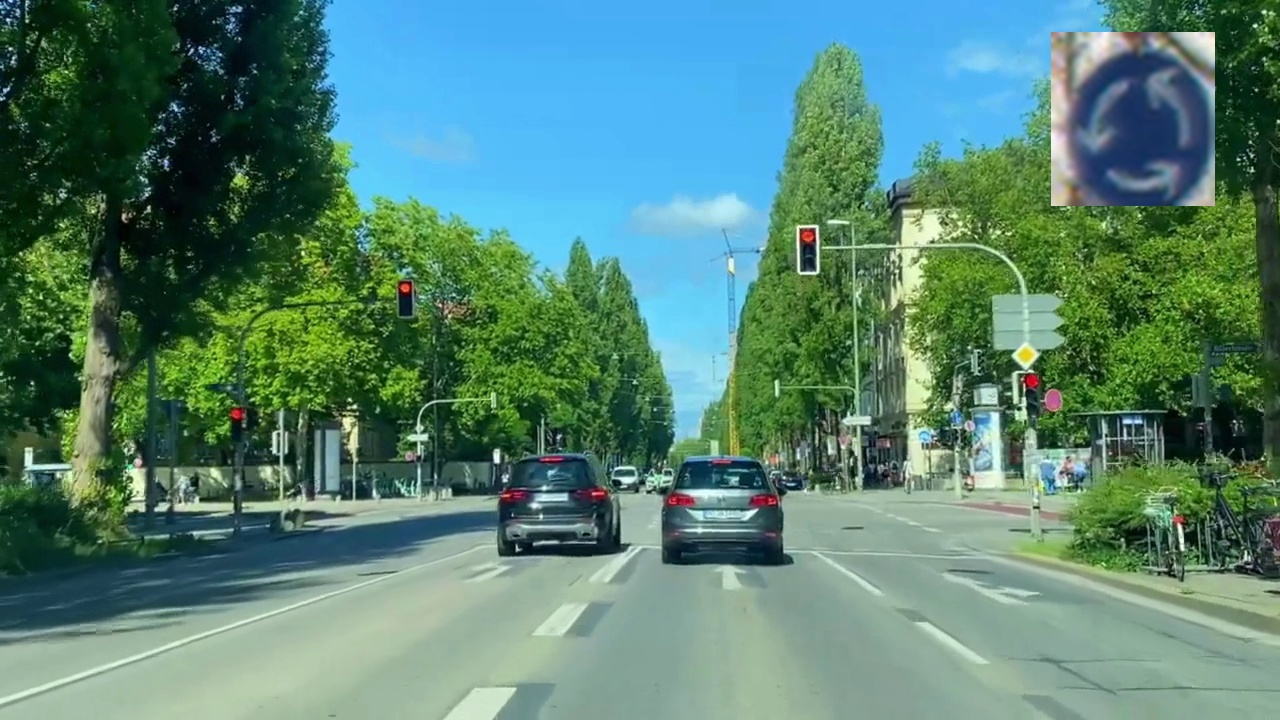Roundabout: (1051, 32, 1215, 206)
